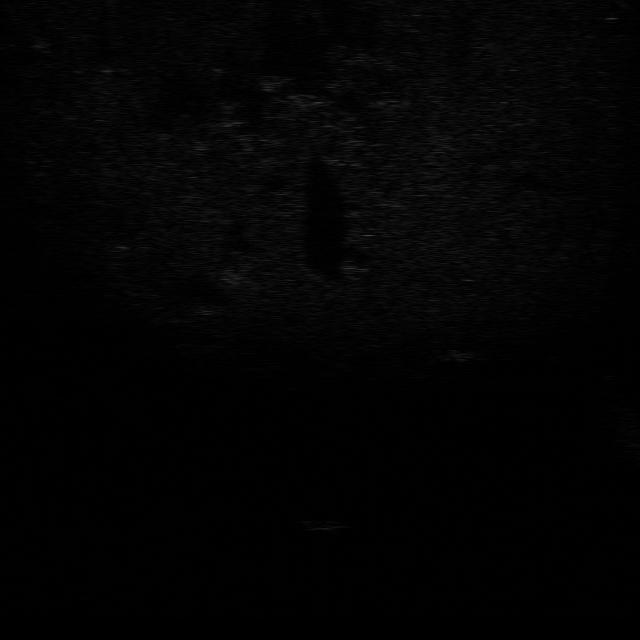cube: (298, 518, 352, 532)
square cage: (435, 346, 490, 363)
